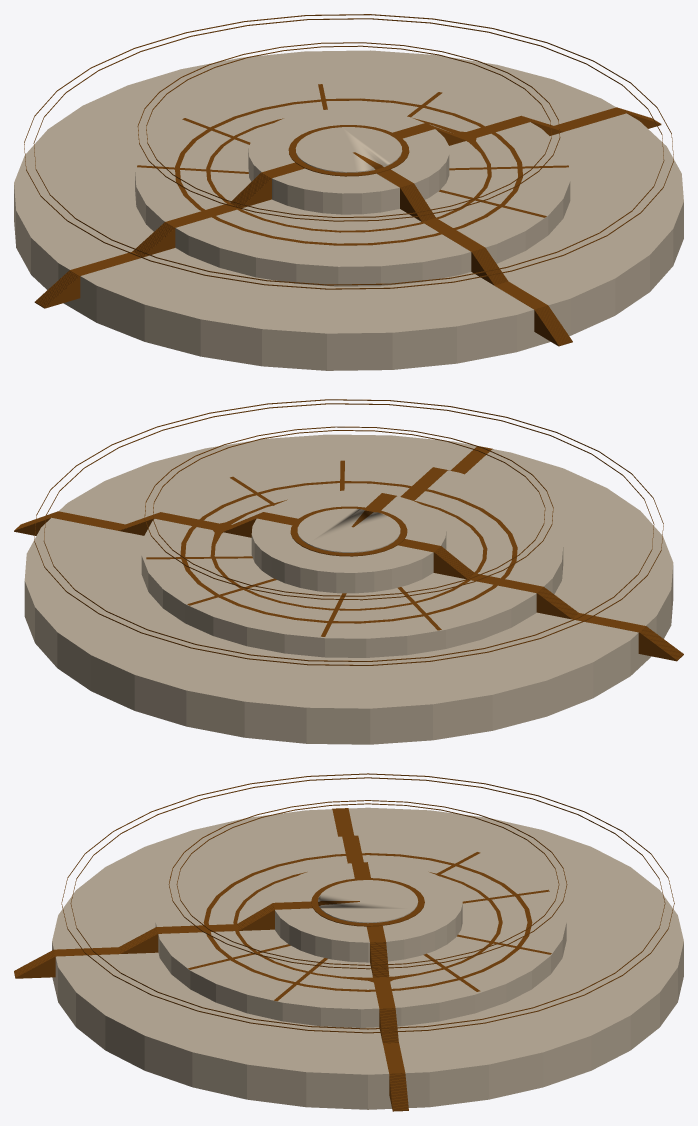
Rendered from City_Base_and_path_and_stairs 1.fbx.
3 renders of one model, top to bottom at view 1: azimuth 30°, elevation 25°; view 2: azimuth 150°, elevation 25°; view 3: azimuth 270°, elevation 25°, orthographic. The views are drawn at different scales.
Parts seen in each view (by area): view 1: Cylinder.350; view 2: Cylinder.350; view 3: Cylinder.350.
Boxes of the visible parts, left/top/right/bottom form: Cylinder.350: left=14, top=14, right=683, bottom=370; Cylinder.350: left=14, top=399, right=683, bottom=744; Cylinder.350: left=14, top=773, right=683, bottom=1111.
Bounding box in the file's own units: 64587 × 9263 × 61071.
